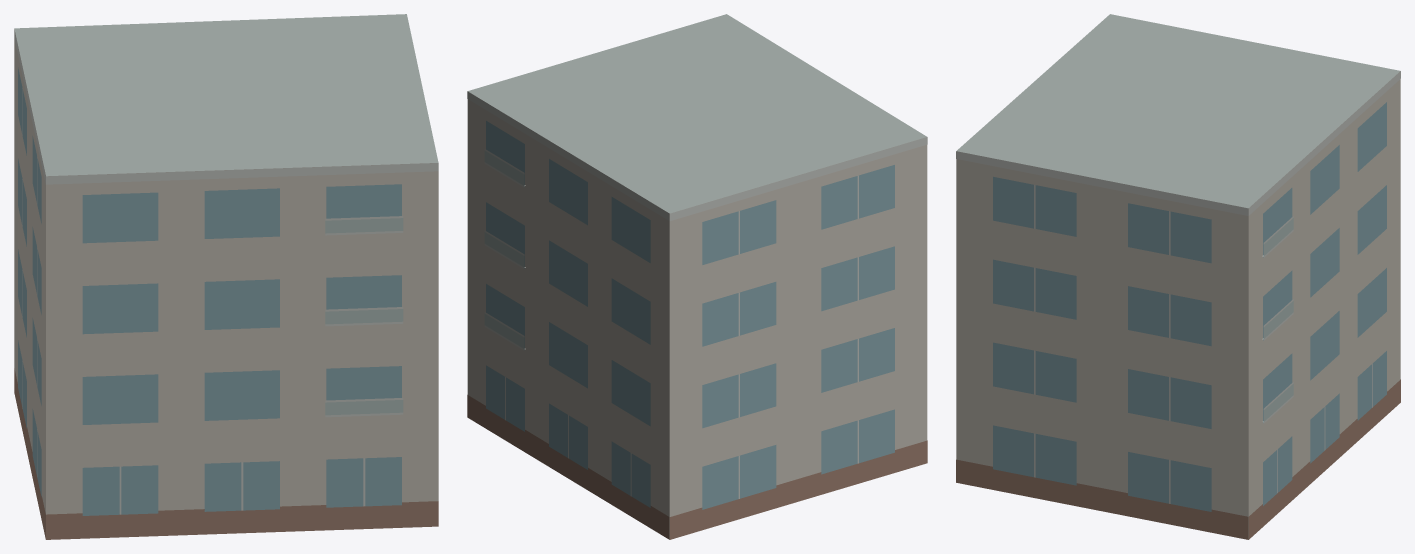
File: survey-upis-32663357.glb
3 views of the same model, side by side, from view 1: azimuth 30°, elevation 25°; view 2: azimuth 150°, elevation 25°; view 3: azimuth 270°, elevation 25° (orthographic). The views are drawn at different scales.
Visible parts, largest first — view 1: survey-upis-32663357.tmp; view 2: survey-upis-32663357.tmp; view 3: survey-upis-32663357.tmp.
Part boxes in pixels (bbox=[...]): survey-upis-32663357.tmp: bbox=[14, 14, 438, 539]; survey-upis-32663357.tmp: bbox=[467, 14, 927, 539]; survey-upis-32663357.tmp: bbox=[956, 14, 1400, 539].
Bounding box in the file's own units: 13.08 × 10.4 × 12.65.
